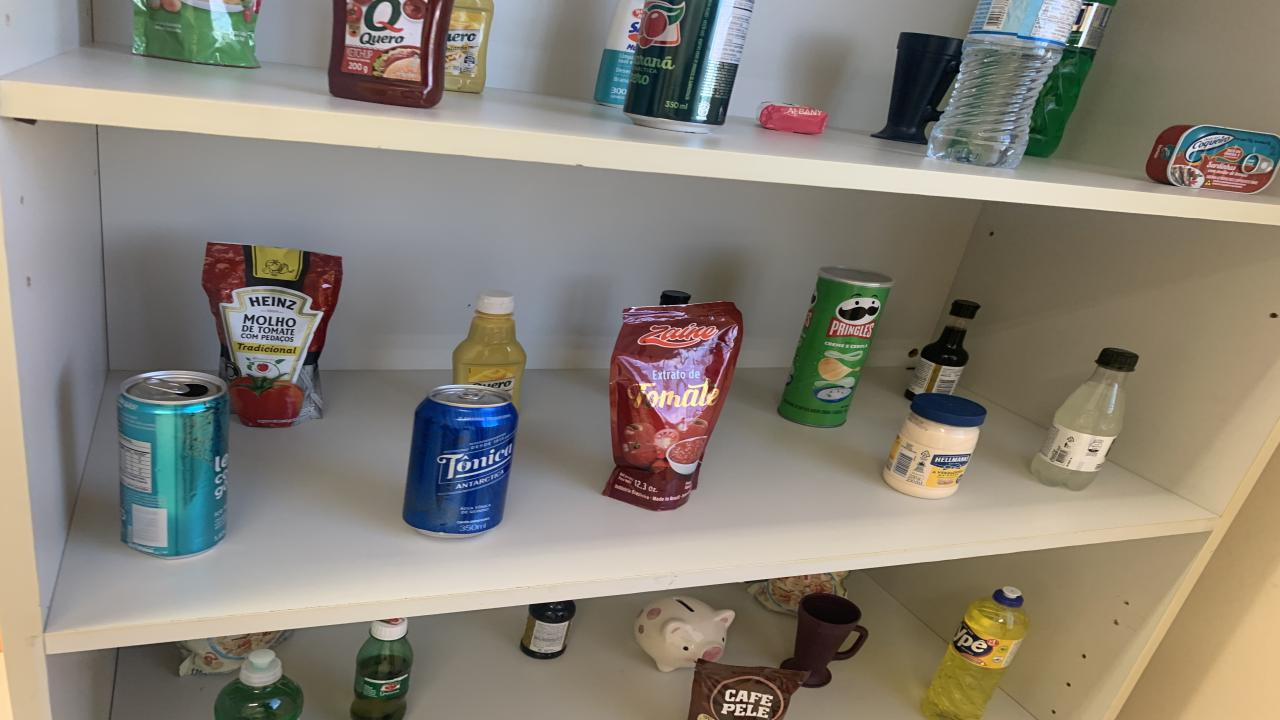Cleaner-Cleanup_Items: (595, 0, 645, 107)
Coffee-Pantry_Items: (688, 660, 810, 720)
Detergent-Cleanup_Items: (922, 587, 1030, 720), (1025, 0, 1115, 158), (215, 649, 302, 720)
English_Sauce-Pantry_Items: (905, 300, 980, 399), (520, 600, 575, 660), (660, 291, 690, 306)
Flakes-Snacks: (175, 630, 292, 675), (748, 572, 850, 615)
Guarana-Drinks: (350, 617, 412, 720)
Guarana_Can-Drinks: (625, 0, 752, 133)
Ketchup-Pantry_Items: (328, 0, 452, 109)
Mayonnaise-Pantry_Items: (882, 392, 988, 499)
Mustard-Pantry_Items: (452, 289, 525, 407), (445, 0, 495, 92)
Pig_Safe-Miscellaneous: (632, 596, 735, 671)
Pringles-Snacks: (778, 266, 895, 428)
Soap-Cleanup_Items: (758, 101, 828, 135)
Soda-Drinks: (1030, 347, 1138, 491)
Tea-Drinks: (118, 371, 230, 559)
Tomato_Sauce-Pantry_Items: (602, 302, 742, 510), (202, 242, 342, 428), (132, 0, 260, 68)
Tonic-Drinks: (402, 384, 518, 538)
Tuna_Can-Pantry_Items: (1148, 126, 1280, 193)
Water_Bottle-Drinks: (928, 0, 1082, 169), (1225, 148, 1228, 150)
